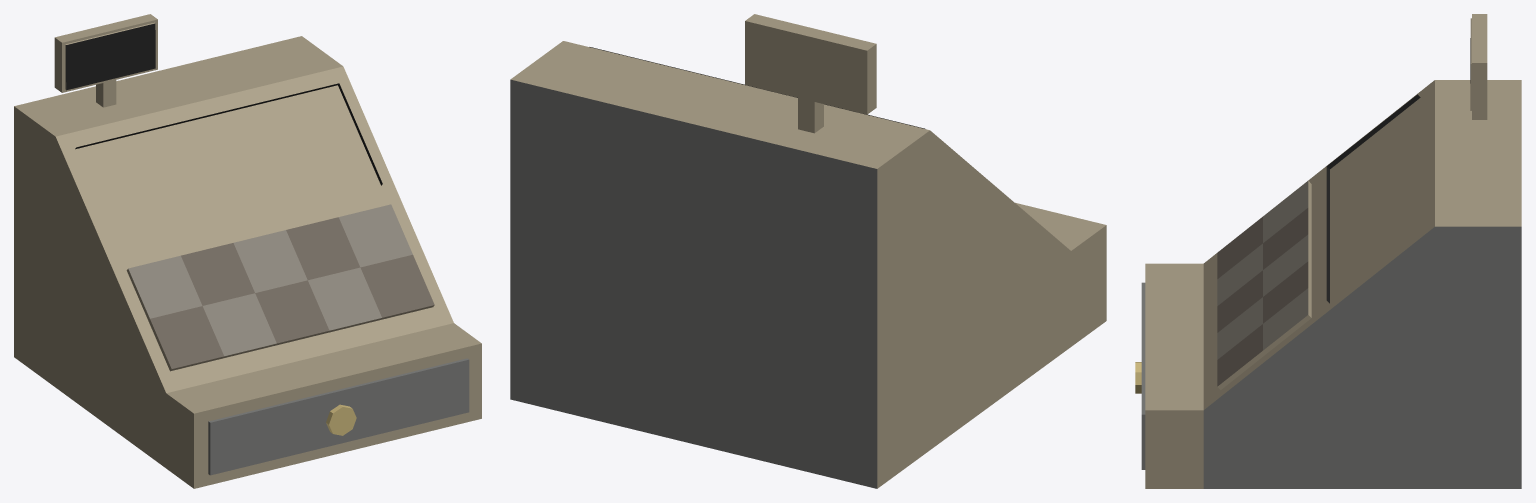
The model's file is cash register.glb.
3 views of the same model, side by side, from view 1: azimuth 30°, elevation 25°; view 2: azimuth 150°, elevation 25°; view 3: azimuth 270°, elevation 25° (orthographic). The views are drawn at different scales.
Visible parts, largest first — view 1: Cash Register Main, Cash Register Tray; view 2: Cash Register Main; view 3: Cash Register Main, Cash Register Tray.
Part boxes in pixels (x1,y1,x2,y2): Cash Register Main: (14, 14, 481, 488); Cash Register Tray: (208, 358, 469, 475); Cash Register Main: (510, 14, 1106, 488); Cash Register Main: (1145, 14, 1521, 488); Cash Register Tray: (1135, 282, 1145, 469).
Size of the model in its own units: 1.2 by 1.3 by 1.34.
